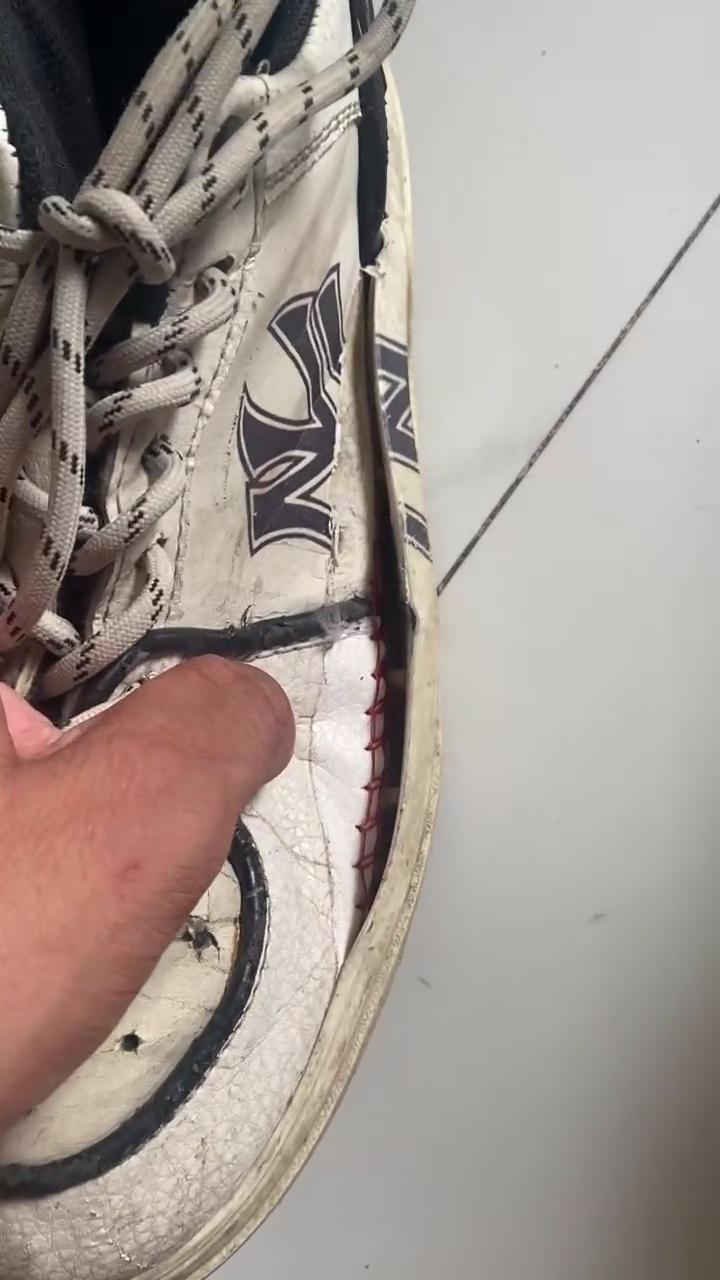bonding: (310, 284, 421, 947)
